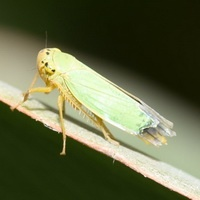insect: (12, 48, 175, 154)
